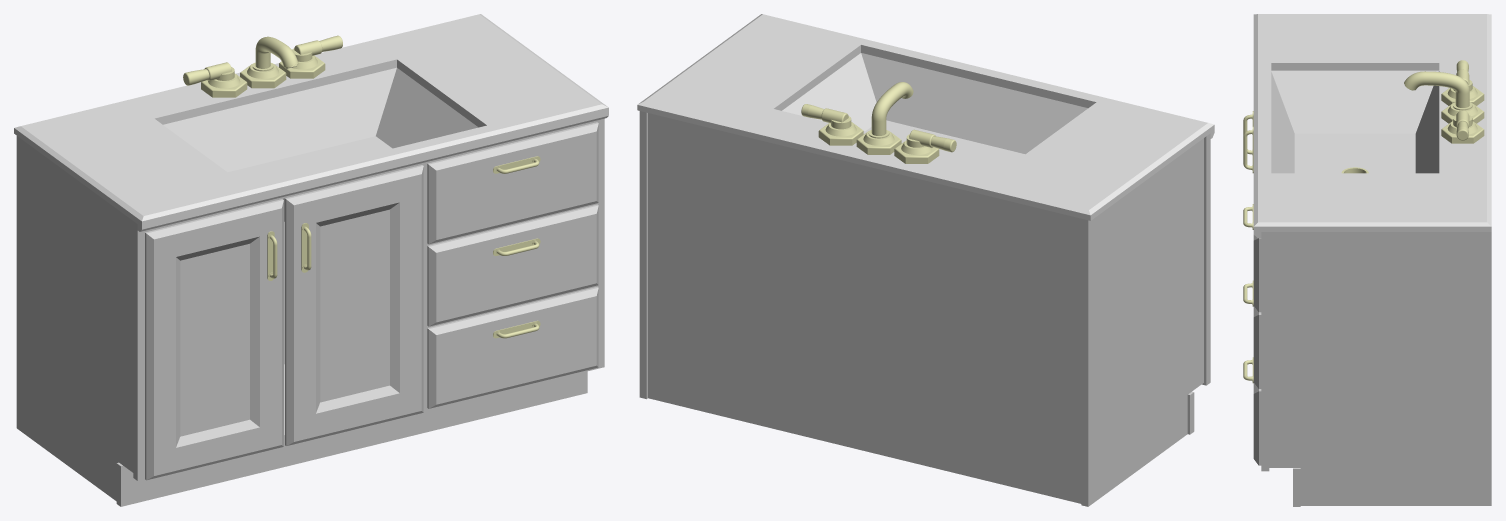
3 renders of one model, left to right at view 1: azimuth 30°, elevation 25°; view 2: azimuth 150°, elevation 25°; view 3: azimuth 270°, elevation 25°, orthographic. The views are drawn at different scales.
Parts seen in each view (by area): view 1: node_c8fcfdc8_a664_4a47_ae55_e613d8289af3_mesh0, node_cdd0b81d_62ee_4df4_b958_469e78e62020_mesh0, node_a6941a51_b795_4976_817f_b116e5106a36_mesh0, node_ec5f6369_0e8c_4fdd_9f03_9285e60ab1fc_mesh0, node_bd115b83_7aeb_4871_ab4e_d7fab608fdac_mesh0, node_647b24e5_6776_4652_945a_03f26bae57c8_mesh0, node_888ca6fd_2c1a_403f_b90c_a34bf5082abb_mesh0, node_bc097ae8_4d79_4a97_9b93_60d4753f27d3_mesh0, node_26c7a96c_83bc_4142_aa7f_ad70ed049353_mesh0, node_5bfc3d13_91cb_4a98_8fee_182b899ec76f_mesh0, node_1f826319_1d84_4692_afb1_4711b377b12b_mesh0, node_6ec9e1ae_5a95_4d9c_8a14_d75328f5f59a_mesh0 (+1 smaller); view 2: node_dc70732a_69fa_4450_b3df_a45f25f8b655_mesh0, node_c8fcfdc8_a664_4a47_ae55_e613d8289af3_mesh0, node_ec5f6369_0e8c_4fdd_9f03_9285e60ab1fc_mesh0, node_bd115b83_7aeb_4871_ab4e_d7fab608fdac_mesh0, node_a8ccee2d_be59_471d_ba4d_1dcc87143efa_mesh0, node_27ff47c5_bb26_499a_825f_51cc960581ab_mesh0, node_1f826319_1d84_4692_afb1_4711b377b12b_mesh0, node_ec7c5851_6f9b_4ac0_8be2_036238fa4f63_mesh0; view 3: node_67f5ccb5_2f05_4679_a6a9_8aa2bd25f76c_mesh0, node_c8fcfdc8_a664_4a47_ae55_e613d8289af3_mesh0, node_bd115b83_7aeb_4871_ab4e_d7fab608fdac_mesh0, node_6ec9e1ae_5a95_4d9c_8a14_d75328f5f59a_mesh0, node_ec7c5851_6f9b_4ac0_8be2_036238fa4f63_mesh0, node_bc097ae8_4d79_4a97_9b93_60d4753f27d3_mesh0, node_888ca6fd_2c1a_403f_b90c_a34bf5082abb_mesh0, node_647b24e5_6776_4652_945a_03f26bae57c8_mesh0, node_4a95058c_a1f9_44c3_869d_b35ca16f0529_mesh0, node_26c7a96c_83bc_4142_aa7f_ad70ed049353_mesh0, node_7b9744b9_5f1c_43c8_9ee9_ee4980db793a_mesh0.
Boxes of the visible parts, left/top/right/bottom form: node_c8fcfdc8_a664_4a47_ae55_e613d8289af3_mesh0: left=14, top=14, right=608, bottom=231; node_cdd0b81d_62ee_4df4_b958_469e78e62020_mesh0: left=145, top=199, right=283, bottom=480; node_a6941a51_b795_4976_817f_b116e5106a36_mesh0: left=285, top=165, right=423, bottom=445; node_ec5f6369_0e8c_4fdd_9f03_9285e60ab1fc_mesh0: left=16, top=136, right=133, bottom=501; node_bd115b83_7aeb_4871_ab4e_d7fab608fdac_mesh0: left=155, top=59, right=486, bottom=221; node_647b24e5_6776_4652_945a_03f26bae57c8_mesh0: left=427, top=122, right=598, bottom=244; node_888ca6fd_2c1a_403f_b90c_a34bf5082abb_mesh0: left=427, top=204, right=598, bottom=326; node_bc097ae8_4d79_4a97_9b93_60d4753f27d3_mesh0: left=427, top=286, right=598, bottom=408; node_26c7a96c_83bc_4142_aa7f_ad70ed049353_mesh0: left=116, top=371, right=587, bottom=506; node_5bfc3d13_91cb_4a98_8fee_182b899ec76f_mesh0: left=152, top=122, right=589, bottom=445; node_1f826319_1d84_4692_afb1_4711b377b12b_mesh0: left=133, top=221, right=152, bottom=480; node_6ec9e1ae_5a95_4d9c_8a14_d75328f5f59a_mesh0: left=590, top=118, right=604, bottom=370; node_dc70732a_69fa_4450_b3df_a45f25f8b655_mesh0: left=648, top=113, right=1081, bottom=503; node_c8fcfdc8_a664_4a47_ae55_e613d8289af3_mesh0: left=637, top=14, right=1214, bottom=220; node_ec5f6369_0e8c_4fdd_9f03_9285e60ab1fc_mesh0: left=1088, top=138, right=1203, bottom=506; node_bd115b83_7aeb_4871_ab4e_d7fab608fdac_mesh0: left=774, top=45, right=1096, bottom=166; node_a8ccee2d_be59_471d_ba4d_1dcc87143efa_mesh0: left=639, top=111, right=647, bottom=399; node_27ff47c5_bb26_499a_825f_51cc960581ab_mesh0: left=1081, top=218, right=1088, bottom=506; node_1f826319_1d84_4692_afb1_4711b377b12b_mesh0: left=1202, top=133, right=1210, bottom=385; node_ec7c5851_6f9b_4ac0_8be2_036238fa4f63_mesh0: left=871, top=82, right=913, bottom=135; node_67f5ccb5_2f05_4679_a6a9_8aa2bd25f76c_mesh0: left=1269, top=232, right=1491, bottom=505; node_c8fcfdc8_a664_4a47_ae55_e613d8289af3_mesh0: left=1253, top=14, right=1491, bottom=237; node_bd115b83_7aeb_4871_ab4e_d7fab608fdac_mesh0: left=1271, top=63, right=1439, bottom=173; node_6ec9e1ae_5a95_4d9c_8a14_d75328f5f59a_mesh0: left=1261, top=232, right=1269, bottom=471; node_ec7c5851_6f9b_4ac0_8be2_036238fa4f63_mesh0: left=1404, top=71, right=1469, bottom=107; node_bc097ae8_4d79_4a97_9b93_60d4753f27d3_mesh0: left=1253, top=382, right=1261, bottom=465; node_888ca6fd_2c1a_403f_b90c_a34bf5082abb_mesh0: left=1253, top=306, right=1261, bottom=388; node_647b24e5_6776_4652_945a_03f26bae57c8_mesh0: left=1253, top=235, right=1261, bottom=312; node_4a95058c_a1f9_44c3_869d_b35ca16f0529_mesh0: left=1441, top=122, right=1484, bottom=143; node_26c7a96c_83bc_4142_aa7f_ad70ed049353_mesh0: left=1293, top=468, right=1300, bottom=506; node_7b9744b9_5f1c_43c8_9ee9_ee4980db793a_mesh0: left=1441, top=86, right=1484, bottom=105.
Bounding box in the file's own units: 4800 × 3467 × 2373.
